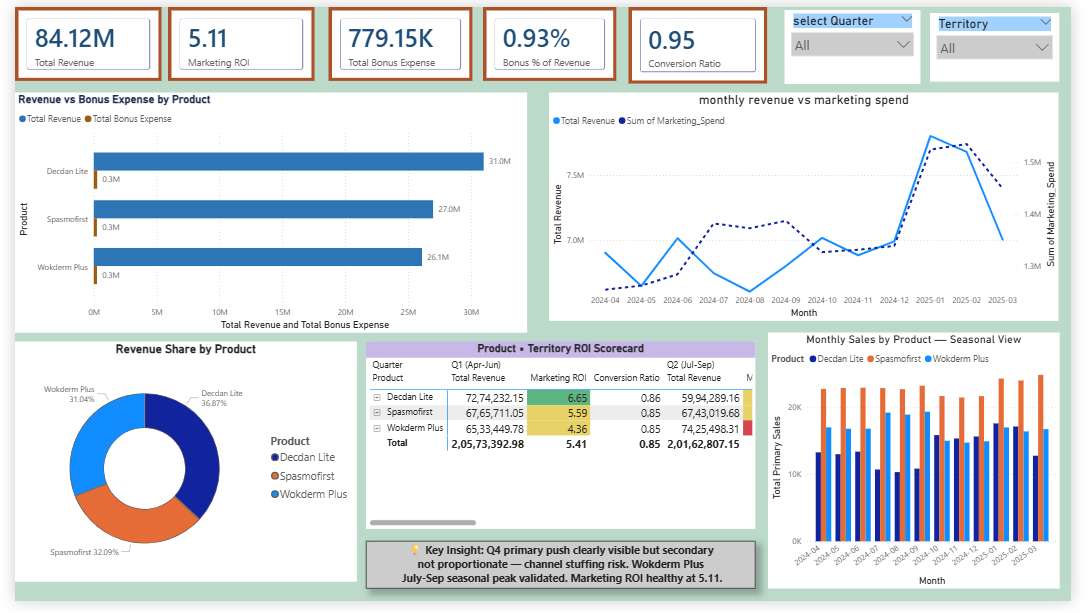

Layout of this report page (visuals, bound fields, positions):
{"tool":"powerbi","page":{"name":"Product & ROI","canvas":[1600,900],"ordinal":3},"visuals":[{"type":"cardVisual","fields":{"Data":["pharma_sales.Total Revenue"]},"box":[0,0,222,112],"z":0},{"type":"cardVisual","fields":{"Data":["pharma_sales.Marketing ROI"]},"box":[232,0,222,112],"z":1000},{"type":"cardVisual","fields":{"Data":["pharma_sales.Total Bonus Expense"]},"box":[474,0,218,112],"z":2000},{"type":"cardVisual","fields":{"Data":["pharma_sales.Bonus % of Revenue"]},"box":[708,0,202,112],"z":3000},{"type":"cardVisual","fields":{"Data":["pharma_sales.Conversion Ratio"]},"box":[930,0,210,116],"z":4000},{"type":"slicer","fields":{"Values":["pharma_sales.Quarter"]},"box":[1166,4,206,112],"z":5000},{"type":"slicer","fields":{"Values":["pharma_sales.Territory"]},"box":[1386,8,196,104],"z":6000},{"type":"clusteredBarChart","title":"Revenue vs Bonus Expense by Product","fields":{"Category":["pharma_sales.Product"],"Y":["pharma_sales.Total Revenue","pharma_sales.Total Bonus Expense"]},"box":[0,130,776,364],"z":7000},{"type":"lineChart","title":"monthly revenue vs marketing spend","fields":{"Category":["pharma_sales.Month"],"Y":["pharma_sales.Total Revenue"],"Y2":["Sum(pharma_sales.Marketing_Spend)"]},"box":[810,130,772,346],"z":8000},{"type":"donutChart","title":"Revenue Share by Product","fields":{"Category":["pharma_sales.Product"],"Y":["pharma_sales.Total Revenue"]},"box":[0,506,518,364],"z":9000},{"type":"pivotTable","title":"Product × Territory ROI Scorecard","fields":{"Rows":["pharma_sales.Product","pharma_sales.Territory"],"Columns":["pharma_sales.Quarter"],"Values":["pharma_sales.Total Revenue","pharma_sales.Marketing ROI","pharma_sales.Conversion Ratio"]},"box":[532,506,590,284],"z":10000},{"type":"clusteredColumnChart","title":"Monthly Sales by Product — Seasonal View","fields":{"Category":["pharma_sales.Month"],"Y":["pharma_sales.Total Primary Sales"],"Series":["pharma_sales.Product"]},"box":[1140,494,442,388],"z":11000},{"type":"textbox","box":[532,808,590,72],"z":12000}]}

Visuals, with their boxes in screenshot pixels (x1, y1, x2, y2), scaled from the page's 1600x900 canvas onto the 1090x613 screenshot:
cardVisual - pharma_sales.Total Revenue: {"x1": 0, "y1": 0, "x2": 151, "y2": 76}
cardVisual - pharma_sales.Marketing ROI: {"x1": 158, "y1": 0, "x2": 309, "y2": 76}
cardVisual - pharma_sales.Total Bonus Expense: {"x1": 323, "y1": 0, "x2": 471, "y2": 76}
cardVisual - pharma_sales.Bonus % of Revenue: {"x1": 482, "y1": 0, "x2": 620, "y2": 76}
cardVisual - pharma_sales.Conversion Ratio: {"x1": 634, "y1": 0, "x2": 777, "y2": 79}
slicer - pharma_sales.Quarter: {"x1": 794, "y1": 3, "x2": 935, "y2": 79}
slicer - pharma_sales.Territory: {"x1": 944, "y1": 5, "x2": 1078, "y2": 76}
"Revenue vs Bonus Expense by Product" clusteredBarChart: {"x1": 0, "y1": 89, "x2": 529, "y2": 336}
"monthly revenue vs marketing spend" lineChart: {"x1": 552, "y1": 89, "x2": 1078, "y2": 324}
"Revenue Share by Product" donutChart: {"x1": 0, "y1": 345, "x2": 353, "y2": 593}
"Product × Territory ROI Scorecard" pivotTable: {"x1": 362, "y1": 345, "x2": 764, "y2": 538}
"Monthly Sales by Product — Seasonal View" clusteredColumnChart: {"x1": 777, "y1": 336, "x2": 1078, "y2": 601}
textbox: {"x1": 362, "y1": 550, "x2": 764, "y2": 599}
